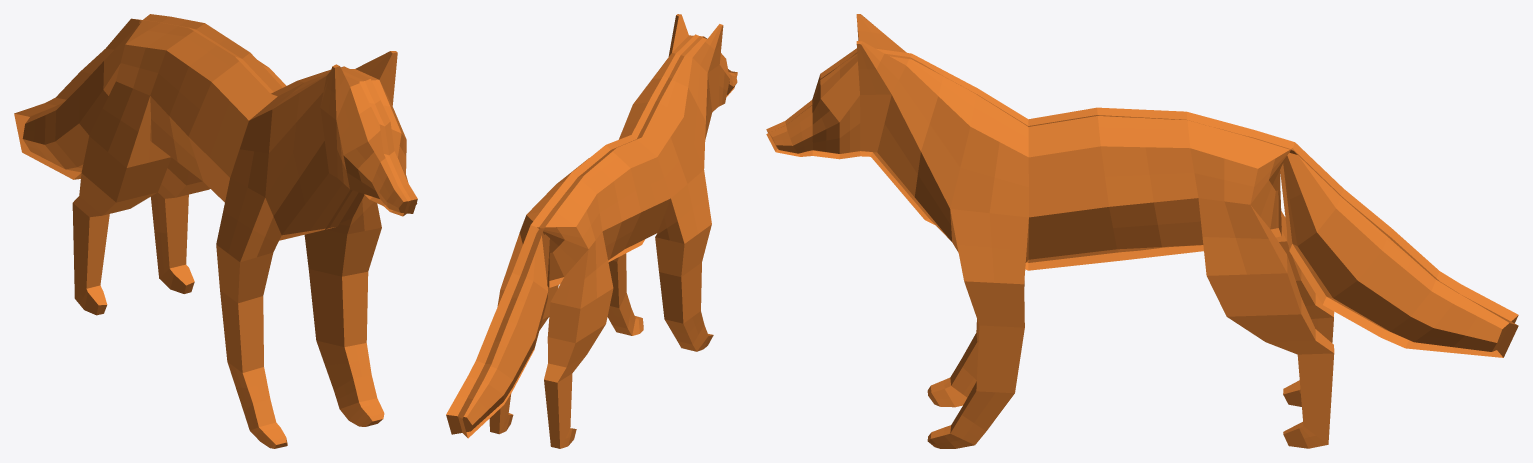
The model's file is Fox.fbx.
3 views of the same model, side by side, from view 1: azimuth 30°, elevation 25°; view 2: azimuth 150°, elevation 25°; view 3: azimuth 270°, elevation 25° (orthographic). The views are drawn at different scales.
Visible parts, largest first — view 1: Fox; view 2: Fox; view 3: Fox.
Boxes of the visible parts, x1,y1,x2,y2 form: Fox: (14, 14, 417, 448); Fox: (446, 14, 737, 448); Fox: (766, 14, 1518, 448).
Size of the model in its own units: 52.15 by 144 by 247.
